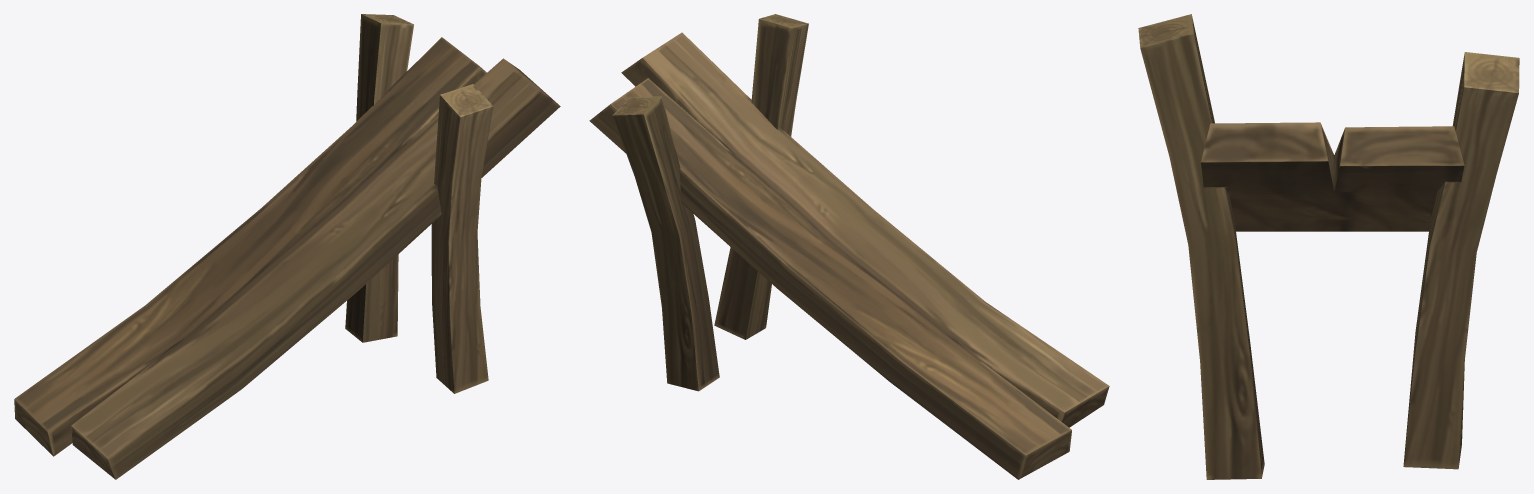
The model's file is scaffolding_ramp.fbx.
3 views of the same model, side by side, from view 1: azimuth 30°, elevation 25°; view 2: azimuth 150°, elevation 25°; view 3: azimuth 270°, elevation 25° (orthographic). The views are drawn at different scales.
Visible parts, largest first — view 1: scaffolding_ramp; view 2: scaffolding_ramp; view 3: scaffolding_ramp.
Boxes of the visible parts, x1,y1,x2,y2 form: scaffolding_ramp: (14,14,560,479); scaffolding_ramp: (589,14,1109,479); scaffolding_ramp: (1138,14,1519,479).
Size of the model in its own units: 361 by 235 by 180.
